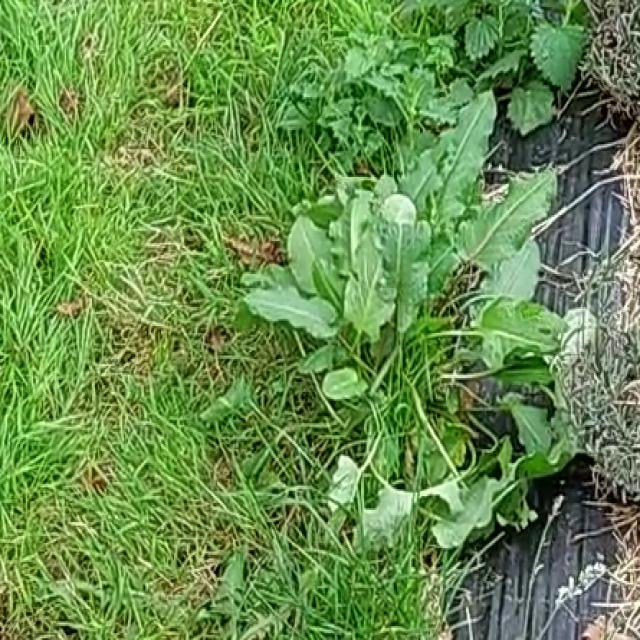organic waste: (205, 102, 640, 551)
